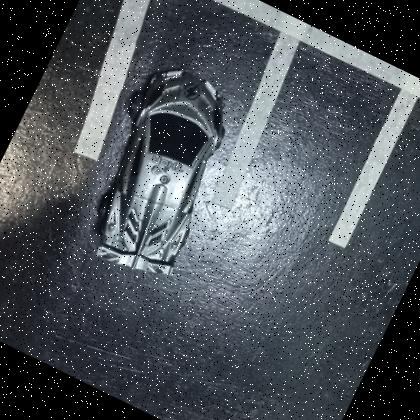Car: (58, 46, 267, 294)
